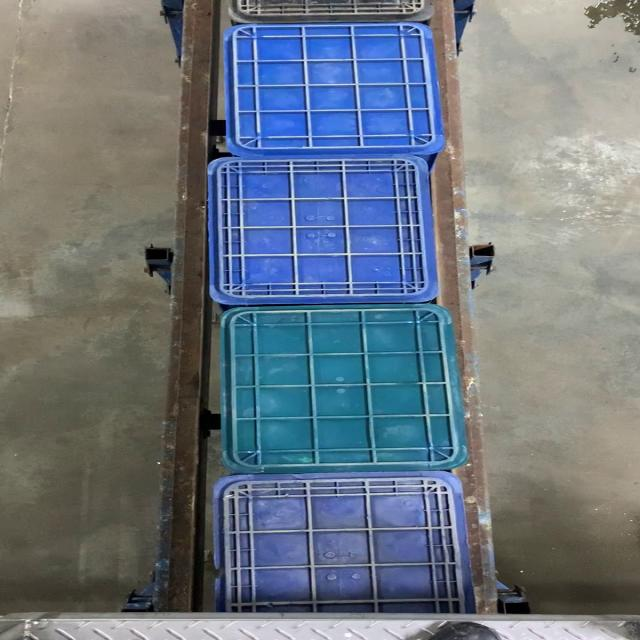Box: (219, 306, 469, 472), (204, 155, 446, 305), (223, 21, 445, 155)
